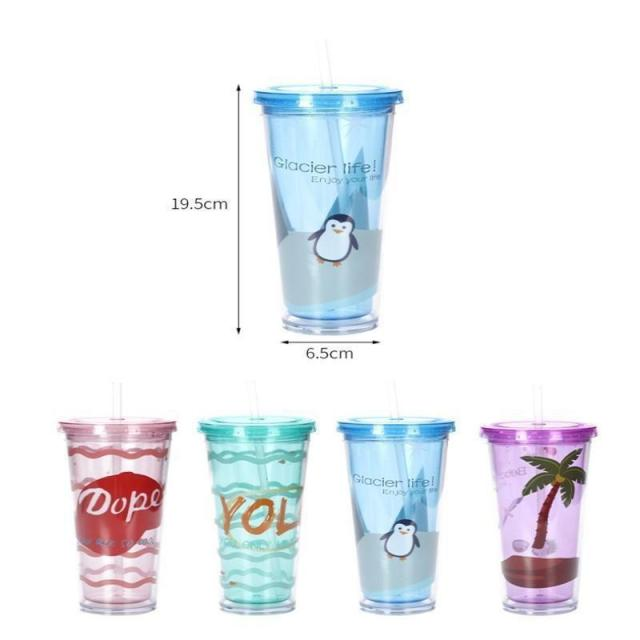cup-disposable: (238, 76, 408, 334), (337, 413, 455, 618), (57, 413, 176, 615), (481, 415, 598, 618), (202, 412, 316, 614)
